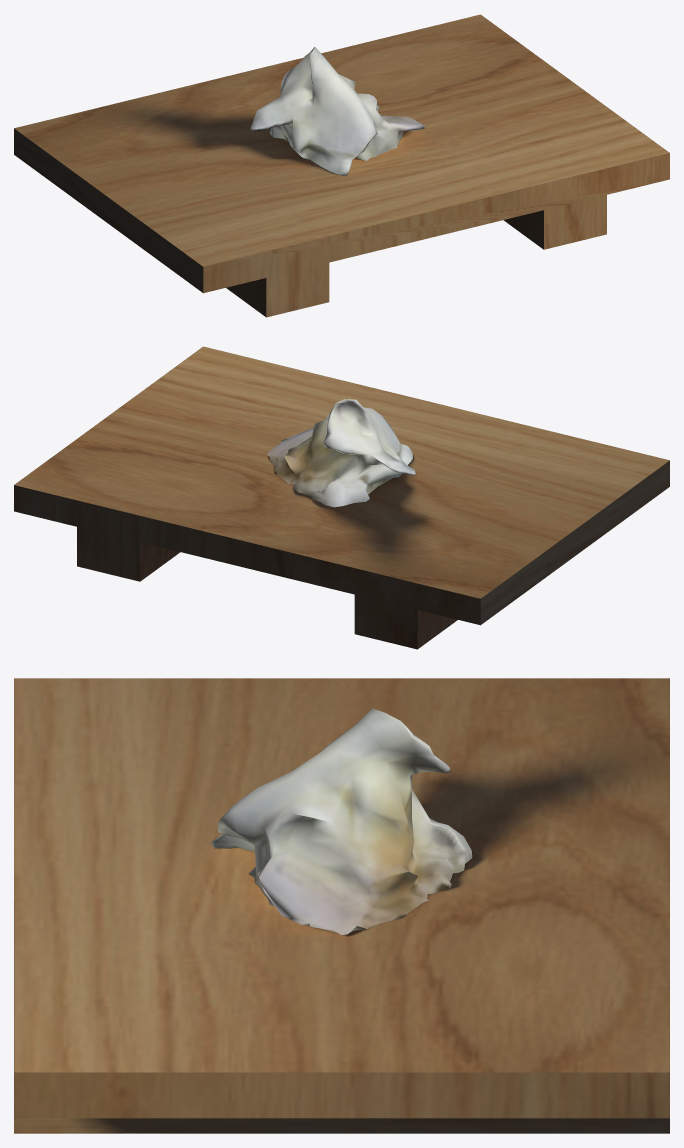
Rendered from sushi_gari.glb.
The picture shows the model from 3 angles, top to bottom: view 1: azimuth 30°, elevation 25°; view 2: azimuth 150°, elevation 25°; view 3: azimuth 270°, elevation 25°; orthographic projection. The views are drawn at different scales.
Visible parts, largest first — view 1: geta.vox, sushi; view 2: geta.vox, sushi; view 3: geta.vox, sushi.
Boxes of the visible parts, x1,y1,x2,y2 form: geta.vox: (14,14,669,317); sushi: (250,47,424,175); geta.vox: (14,346,669,649); sushi: (266,399,416,507); geta.vox: (14,678,669,1133); sushi: (211,708,472,935).
Size of the model in its own units: 3.7 by 1.15 by 2.6.
2 materials, 2 textured.
